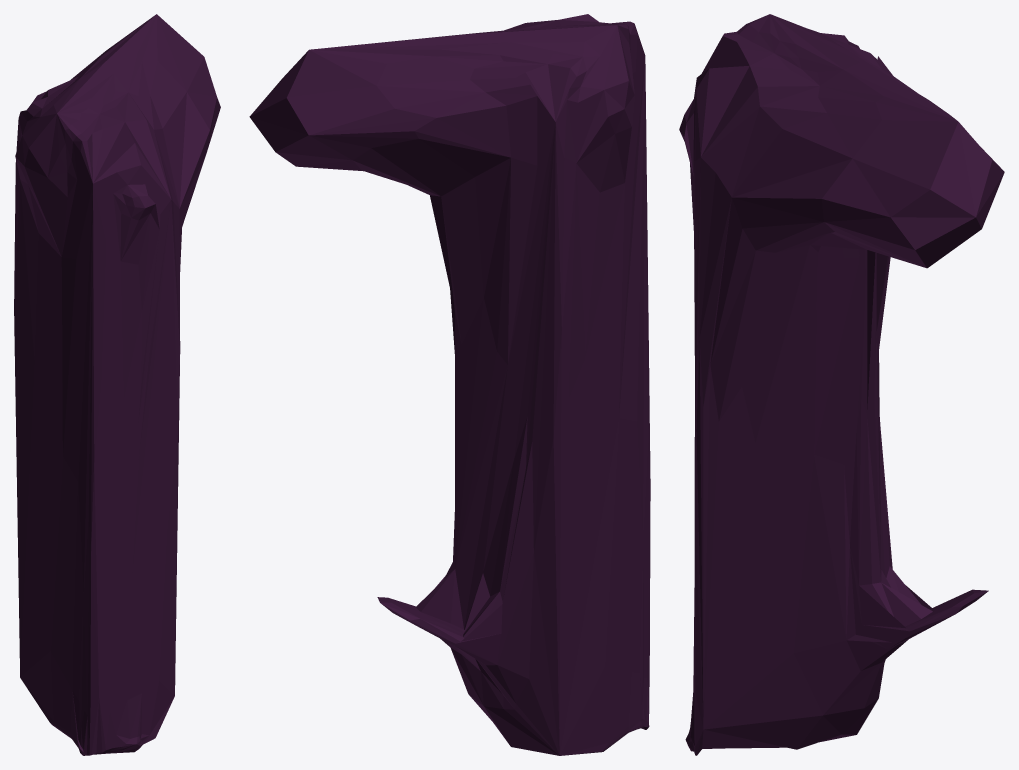
3 views of the same model, side by side, from view 1: azimuth 30°, elevation 25°; view 2: azimuth 150°, elevation 25°; view 3: azimuth 270°, elevation 25° (orthographic). The views are drawn at different scales.
Parts seen in each view (by area): view 1: 693_Cube.2784; view 2: 693_Cube.2784; view 3: 693_Cube.2784.
Part boxes in pixels (x1,y1,x2,y2): 693_Cube.2784: (14,14,220,755); 693_Cube.2784: (249,14,650,755); 693_Cube.2784: (679,14,1004,755).
Size of the model in its own units: 5.15 by 12.45 by 5.15.
